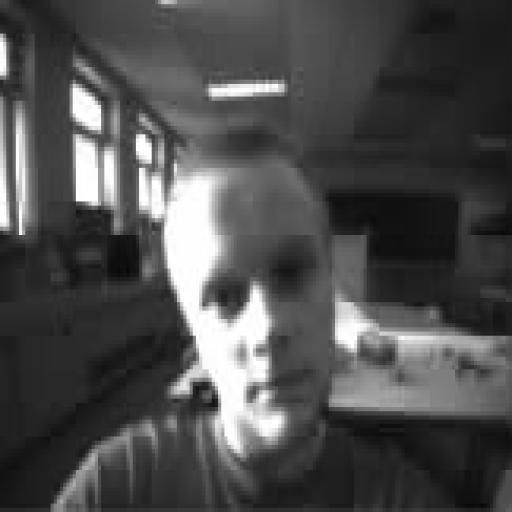human: (54, 122, 451, 511)
